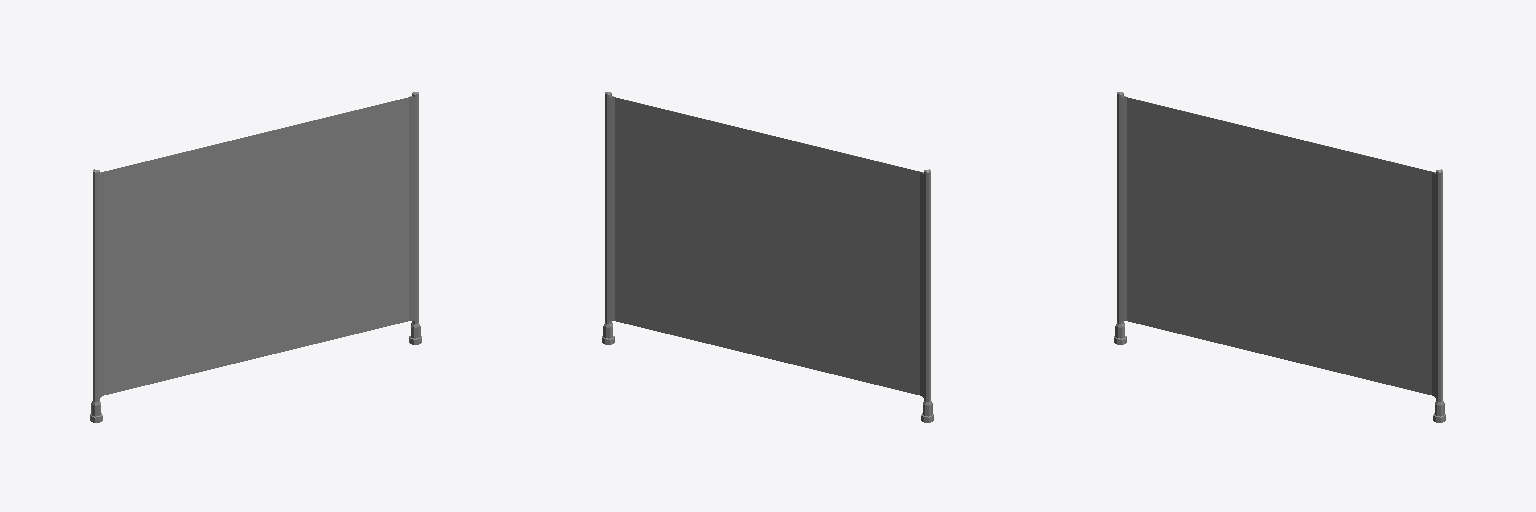
File: Cutrain.obj
The picture shows the model from 3 angles: view 1: azimuth 30°, elevation 25°; view 2: azimuth 150°, elevation 25°; view 3: azimuth 330°, elevation 25°; orthographic projection.
Parts seen in each view (by area): view 1: Box001; view 2: Box001; view 3: Box001.
Part boxes in pixels (left/top/right/bottom): Box001: left=90, top=92, right=421, bottom=422; Box001: left=602, top=92, right=933, bottom=422; Box001: left=1114, top=92, right=1445, bottom=422.
Size of the model in its own units: 2239 by 1623 by 75.47.